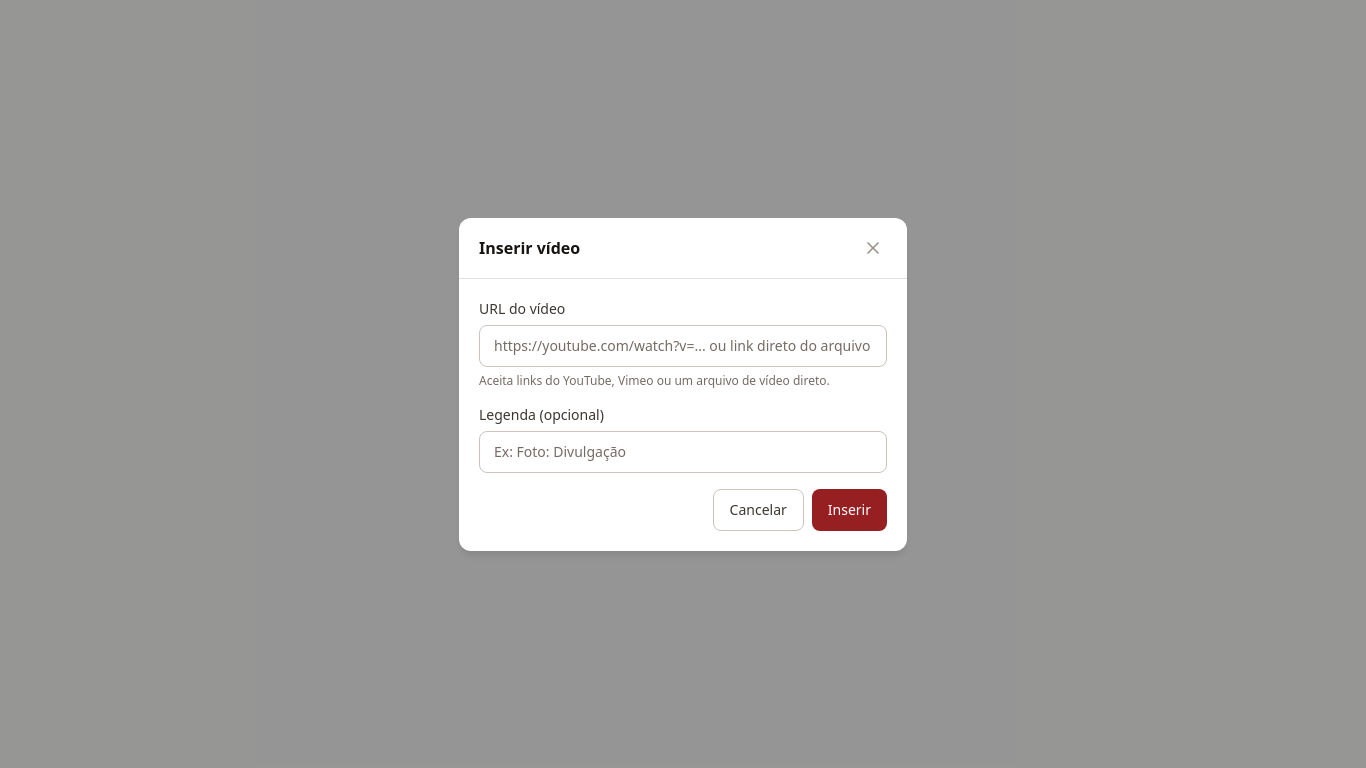
InsertMediaModal — video › shows an inline error instead of inserting when the URL is invalid
Type "not a url" into the field labelled "URL do vídeo" at (683, 346), box [479,324,887,366]
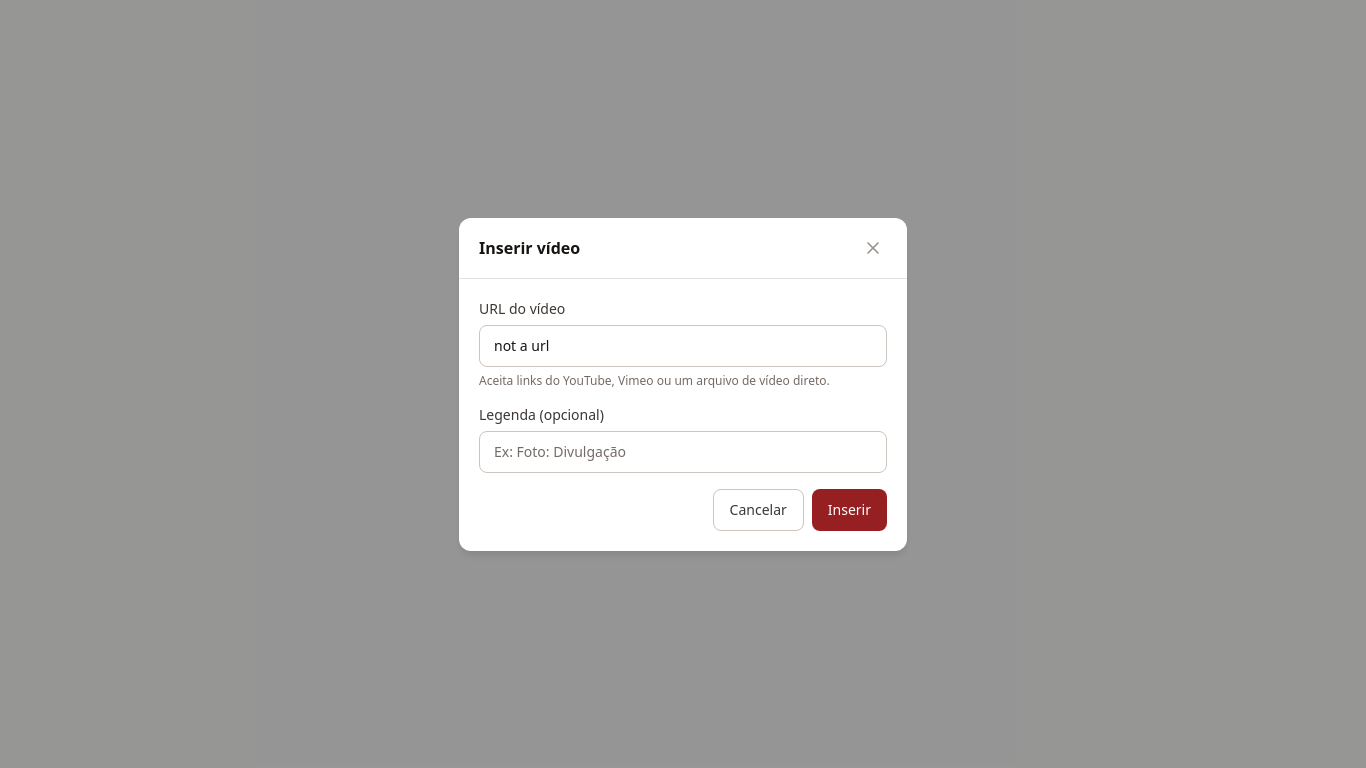
Click the button "Inserir" at (849, 510), box [812,488,887,530]
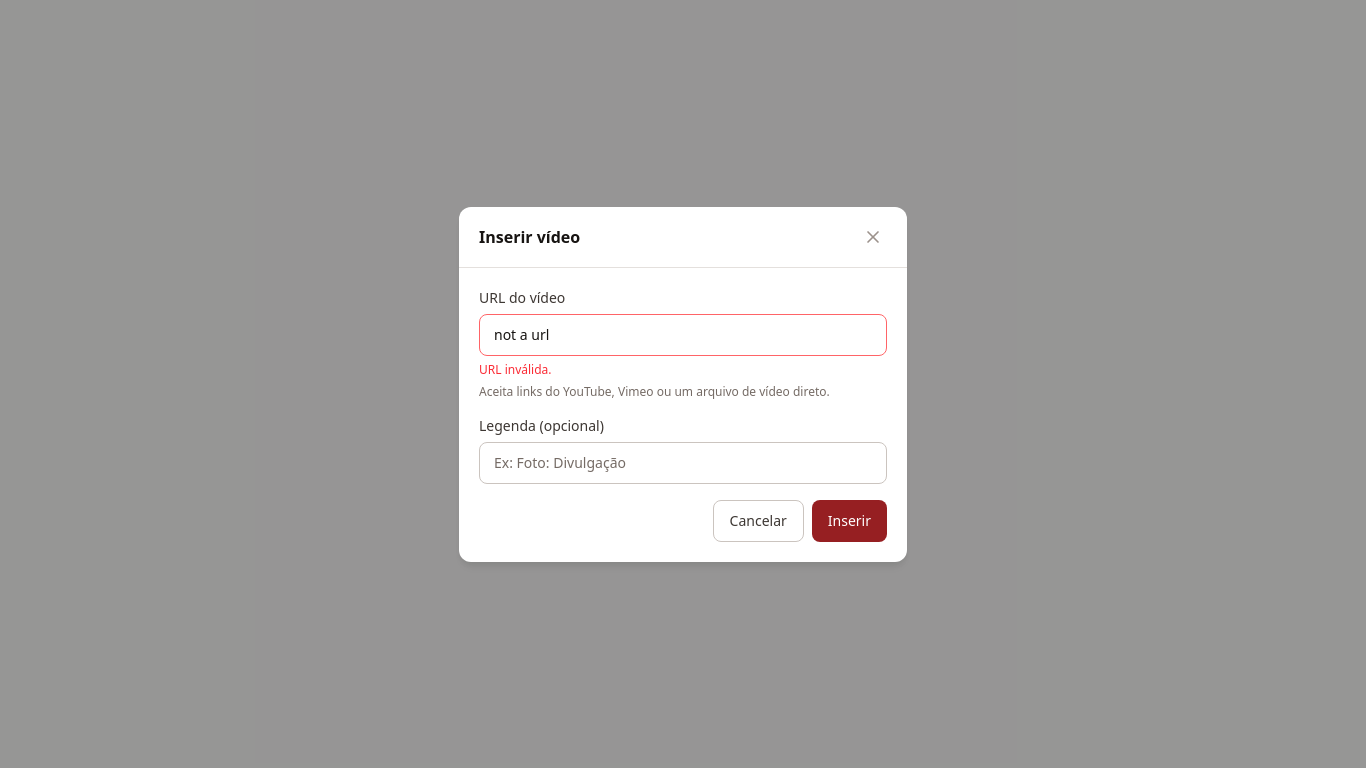
Now the text "URL inválida." is shown, box [479,360,552,378]
